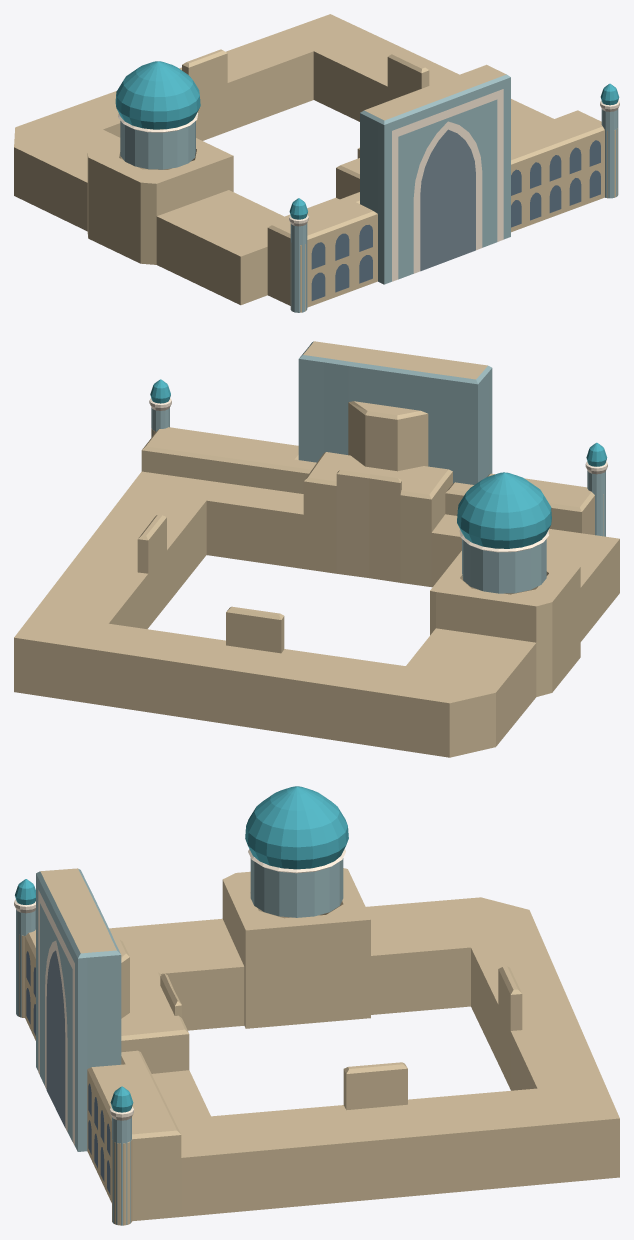
Rendered from samarkand-tilya-kori-madrasa.glb.
The picture shows the model from 3 angles, top to bottom: view 1: azimuth 30°, elevation 25°; view 2: azimuth 150°, elevation 25°; view 3: azimuth 270°, elevation 25°; orthographic projection. The views are drawn at different scales.
Parts seen in each view (by area): view 1: Tilya-Kori Madrasa; view 2: Tilya-Kori Madrasa; view 3: Tilya-Kori Madrasa.
Part boxes in pixels (left/top/right/bottom): Tilya-Kori Madrasa: left=14, top=14, right=619, bottom=312; Tilya-Kori Madrasa: left=14, top=341, right=619, bottom=757; Tilya-Kori Madrasa: left=14, top=786, right=619, bottom=1225.
Size of the model in its own units: 88.32 by 32 by 83.73.
